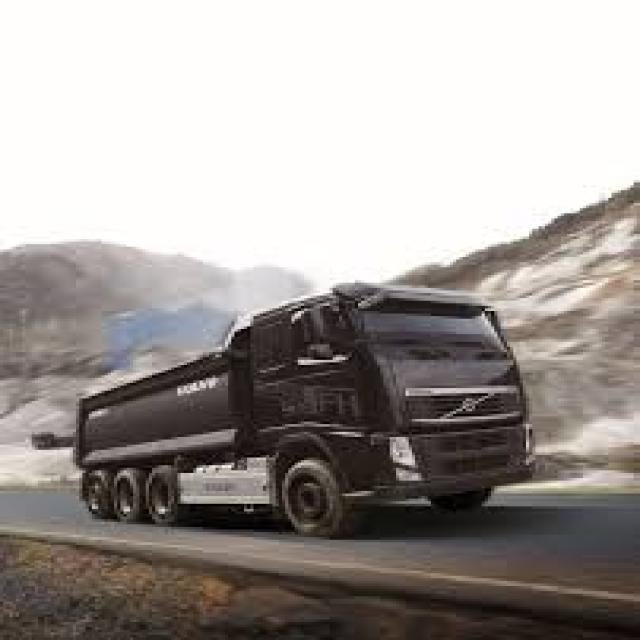machinery: (74, 284, 542, 533)
